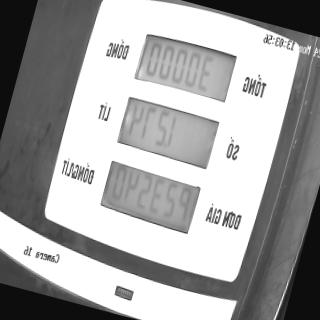screen: (94, 25, 240, 241)
